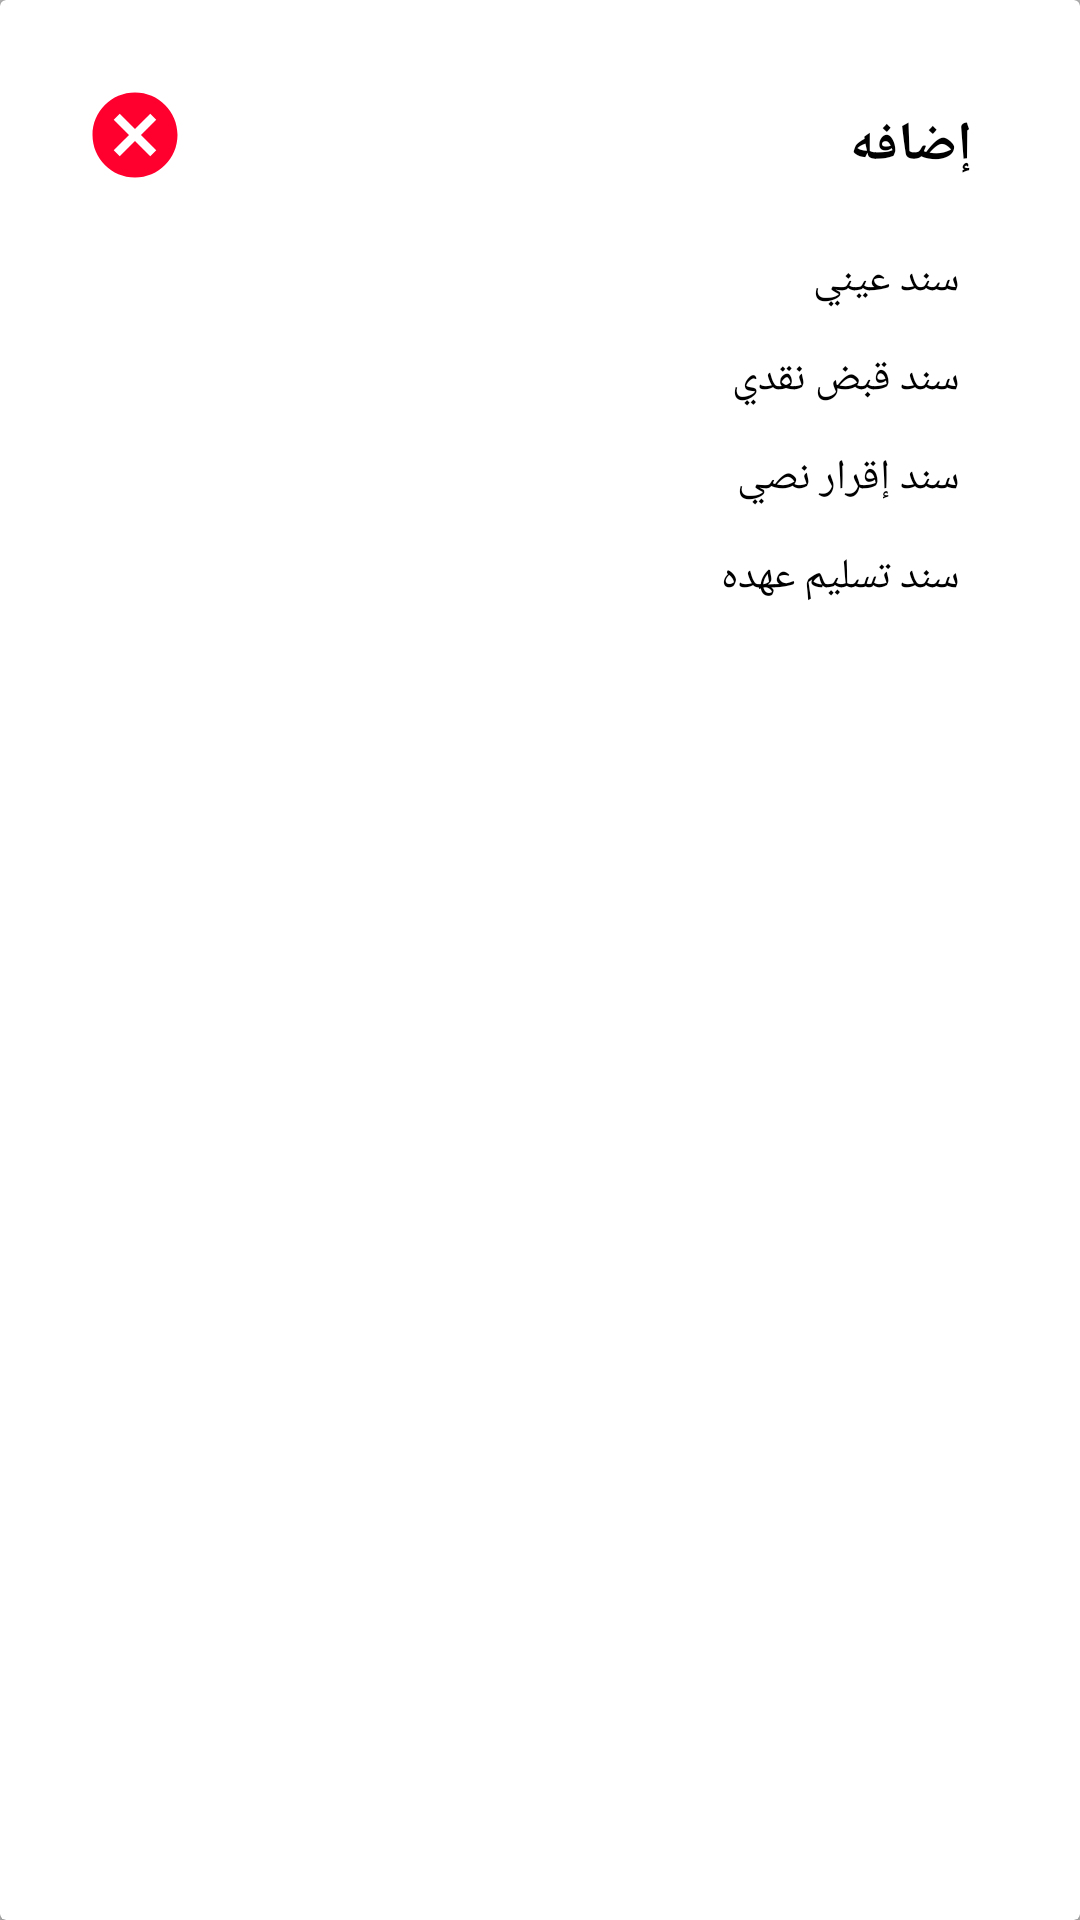

Icons on this 1080 × 1920 Android screen, each with the point to tap as point (x, y):
cancel: point (135, 135)
